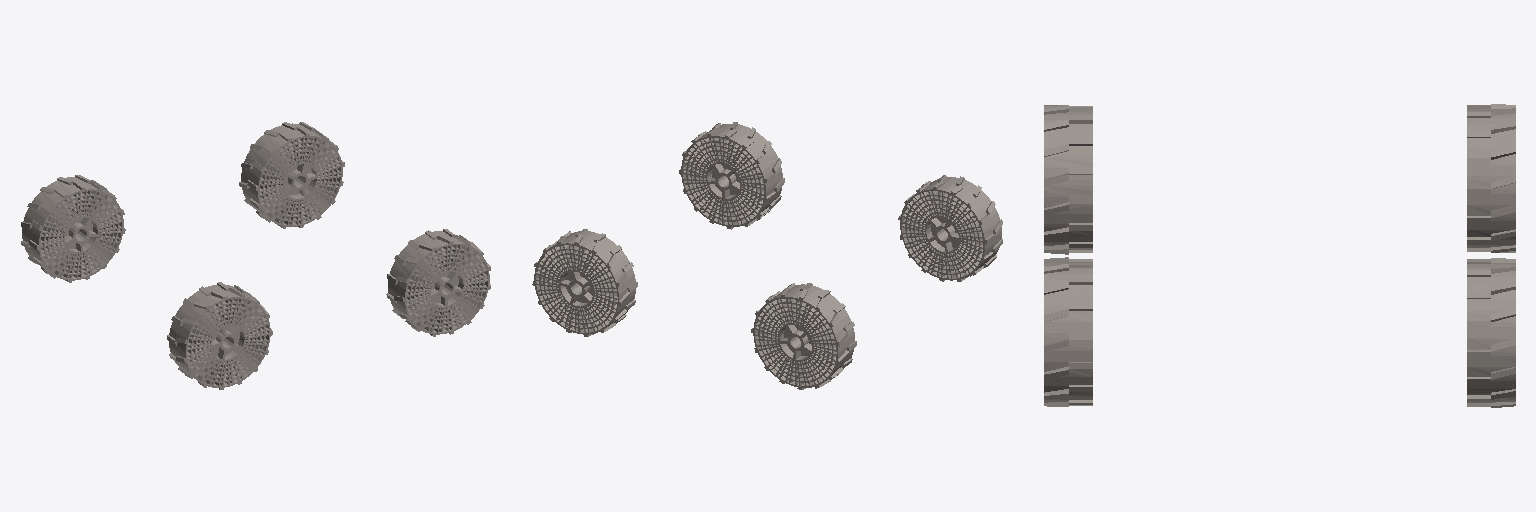
robot.urdf — rover_description:
<?xml version="1.0" encoding="utf-8"?>

<robot name="rover_description">
  
  <!-- base body -->
  <link name="base_footprint" />

  <link
    name="base_link">
    <inertial>
      <origin
        xyz="0.0153558063080517 -0.0129021533665509 0.071529533909414"
        rpy="0 0 0" />
      <mass
        value="33.768099021262" />
      <inertia
        ixx="0.548263062467536"
        ixy="0.000122406198210831"
        ixz="1.73311160578678E-05"
        iyy="0.366642601577218"
        iyz="0.00259053871374489"
        izz="0.761708067340883" />
    </inertial>
    <visual>
      <origin
        xyz="0 0 0"
        rpy="0 0 0" />
      <geometry>
        <mesh  
          filename="package://rover_description/meshes/base_link.STL" />
      </geometry>
      <material
        name="">
        <color
          rgba="0.866666666666667 0.909803921568627 1 1" />
      </material>
    </visual>
    <collision>
      <origin
        xyz="0 0 0"
        rpy="0 0 0" />
      <geometry>
        <mesh
          filename="package://rover_description/meshes/base_link.STL" />
      </geometry>
    </collision>
  </link>
  
  <joint name="base_footprint_joint" type="fixed">
    <parent link="base_footprint"/>
    <child link="base_link"/>
    <origin xyz="0 0 .52019" rpy="0 0 0"/>
  </joint>

  <link name="fr">
    <inertial>
      <origin
        xyz="0.04496 -3.3085E-14 7.0198E-13"
        rpy="0 0 0" />
      <mass
        value="2.8978" />
      <inertia
        ixx="0.025193"
        ixy="1.019E-12"
        ixz="-1.1189E-12"
        iyy="0.014444"
        iyz="2.1084E-13"
        izz="0.014444" />
    </inertial>
  
    <visual>
      <origin
        xyz="0 0 0"
        rpy="0 0 0" />
      <geometry>
        <mesh
          filename="package://rover_description/meshes/fr.STL" />
      </geometry>
      <material
        name="">
        <color
          rgba="0.64706 0.61961 0.6 1" />
      </material>
    </visual>
    <collision>
      <origin
        xyz="0 0 0"
        rpy="0 0 0" />
      <geometry>
        <mesh
          filename="package://rover_description/meshes/fr.STL" />
      </geometry>
    </collision>
  </link>
  <joint
    name="FR_joint"
    type="continuous">
    <origin
      xyz="0.335 -0.434 -0.24377"
      rpy="0 0 0" />
    <parent
      link="base_link" />
    <child
      link="fr" />
    <axis
      xyz="0 1 0" />
  </joint>

  <link
    name="fl">
    <inertial>
      <origin
        xyz="-0.04496 -5.5511E-13 -4.1975E-13"
        rpy="0 0 0" />
      <mass
        value="2.8978" />
      <inertia
        ixx="0.025193"
        ixy="-1.4762E-12"
        ixz="1.5948E-13"
        iyy="0.014444"
        iyz="4.4368E-14"
        izz="0.014444" />
    </inertial>
    <visual>
      <origin
        xyz="0 0 0"
        rpy="0 0 0" />
      <geometry>
        <mesh
          filename="package://rover_description/meshes/fl.STL" />
      </geometry>
      <material
        name="">
        <color
          rgba="0.64706 0.61961 0.6 1" />
      </material>
    </visual>
    <collision>
      <origin
        xyz="0 0 0"
        rpy="0 0 0" />
      <geometry>
        <mesh
          filename="package://rover_description/meshes/fl.STL" />
      </geometry>
    </collision>
  </link>
  <joint
    name="FL_joint"
    type="continuous">
    <origin
      xyz="0.335 0.434 -0.24377"
      rpy="0 0 0" />
    <parent
      link="base_link" />
    <child
      link="fl" />
    <axis
      xyz="0 1 0" />
  </joint>
  <link
    name="br">
    <inertial>
      <origin
        xyz="0.04496 -6.7072E-13 -5.8287E-16"
        rpy="0 0 0" />
      <mass
        value="2.8978" />
      <inertia
        ixx="0.025193"
        ixy="1.1602E-12"
        ixz="9.6464E-13"
        iyy="0.014444"
        iyz="-2.0493E-13"
        izz="0.014444" />
    </inertial>
    <visual>
      <origin
        xyz="0 0 0"
        rpy="0 0 0" />
      <geometry>
        <mesh
          filename="package://rover_description/meshes/br.STL" />
      </geometry>
      <material
        name="">
        <color
          rgba="0.64706 0.61961 0.6 1" />
      </material>
    </visual>
    <collision>
      <origin
        xyz="0 0 0"
        rpy="0 0 0" />
      <geometry>
        <mesh
          filename="package://rover_description/meshes/br.STL" />
      </geometry>
    </collision>
  </link>
  <joint
    name="BR_joint"
    type="continuous">
    <origin
      xyz="-0.335 -0.434 -0.24377"
      rpy="0 0 0" />
    <parent
      link="base_link" />
    <child
      link="br" />
    <axis
      xyz="0 1 0" />
  </joint>
  <link
    name="bl">
    <inertial>
      <origin
        xyz="-0.04496 -4.1105E-13 -5.1174E-13"
        rpy="0 0 0" />
      <mass
        value="2.8978" />
      <inertia
        ixx="0.025193"
        ixy="-1.4715E-12"
        ixz="-2.4107E-13"
        iyy="0.014444"
        iyz="-7.9065E-14"
        izz="0.014444" />
    </inertial>
    <visual>
      <origin
        xyz="0 0 0"
        rpy="0 0 0" />
      <geometry>
        <mesh
          filename="package://rover_description/meshes/bl.STL" />
      </geometry>
      <material
        name="">
        <color
          rgba="0.64706 0.61961 0.6 1" />
      </material>
    </visual>
    <collision>
      <origin
        xyz="0 0 0"
        rpy="0 0 0" />
      <geometry>
        <mesh
          filename="package://rover_description/meshes/bl.STL" />
      </geometry>
    </collision>
  </link>
  <joint
    name="BL_joint"
    type="continuous">
    <origin
      xyz="-0.335 0.434 -0.24377"
      rpy="0 0 0" />
    <parent
      link="base_link" />
    <child
      link="bl" />
    <axis
      xyz="0 1 0" />
  </joint>

  <!-- Gazebo Harmonic Differential Drive Plugin -->
  <gazebo>
    <plugin filename="gz-sim-diff-drive-system" name="gz::sim::systems::DiffDrive">
      <!-- 1. Assigning Left and Right joints -->
      <left_joint>FL_joint</left_joint>
      <left_joint>BL_joint</left_joint>
      <right_joint>FR_joint</right_joint>
      <right_joint>BR_joint</right_joint>
      
      <!-- 2. Kinematics (Approximated from your URDF) -->
      <wheel_separation>0.868</wheel_separation>
      <wheel_radius>0.15</wheel_radius>
      
      <!-- 3. Communication Topic -->
      <topic>/cmd_vel</topic>
    </plugin>
  </gazebo>
</robot>

--- Render facts (derived) ---
Views: 3 orthographic renders of the robot side by side, from view 1: azimuth 30°, elevation 25°; view 2: azimuth 150°, elevation 25°; view 3: azimuth 270°, elevation 25°.
Model rover_description with 6 links and 5 joints (4 continuous, 1 fixed), rooted at base_footprint, posed all joints at 0.
Links seen in each view (by area): view 1: bl, fr, br, fl; view 2: fr, bl, fl, br; view 3: fl, br, fr, bl.
Link boxes in pixels (<box>): bl: <box>21,175,125,282</box>; fr: <box>386,229,490,336</box>; br: <box>167,282,272,389</box>; fl: <box>239,122,344,228</box>; fr: <box>679,122,784,229</box>; bl: <box>751,283,856,389</box>; fl: <box>532,229,637,336</box>; br: <box>898,175,1002,281</box>; fl: <box>1467,258,1515,407</box>; br: <box>1044,105,1092,254</box>; fr: <box>1044,257,1092,406</box>; bl: <box>1467,104,1515,252</box>.
Size in the robot's own frame: 0.9476 by 0.868 by 0.2787 metres.
4 mesh visuals loaded from 5 distinct referenced files (4 binary STL); not drawn: 1 (reference not matched to a file when rendering).
